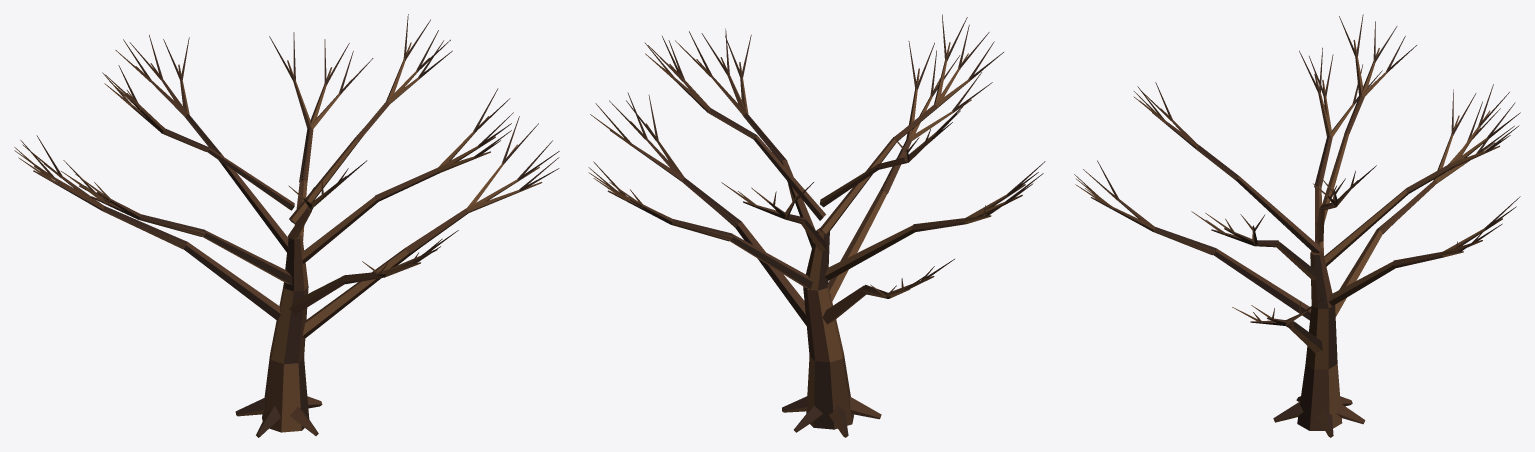
File: tree_hawthorn_bare.obj
3 renders of one model, left to right at view 1: azimuth 30°, elevation 25°; view 2: azimuth 150°, elevation 25°; view 3: azimuth 270°, elevation 25°, orthographic. The views are drawn at different scales.
Visible parts, largest first — view 1: tree_hawthorn_bare; view 2: tree_hawthorn_bare; view 3: tree_hawthorn_bare.
Boxes of the visible parts, x1,y1,x2,y2 form: tree_hawthorn_bare: [14, 14, 559, 437]; tree_hawthorn_bare: [588, 14, 1045, 437]; tree_hawthorn_bare: [1074, 14, 1520, 437].
Size of the model in its own units: 353 by 270 by 322.
Materials: 1 (1 with a texture image).
